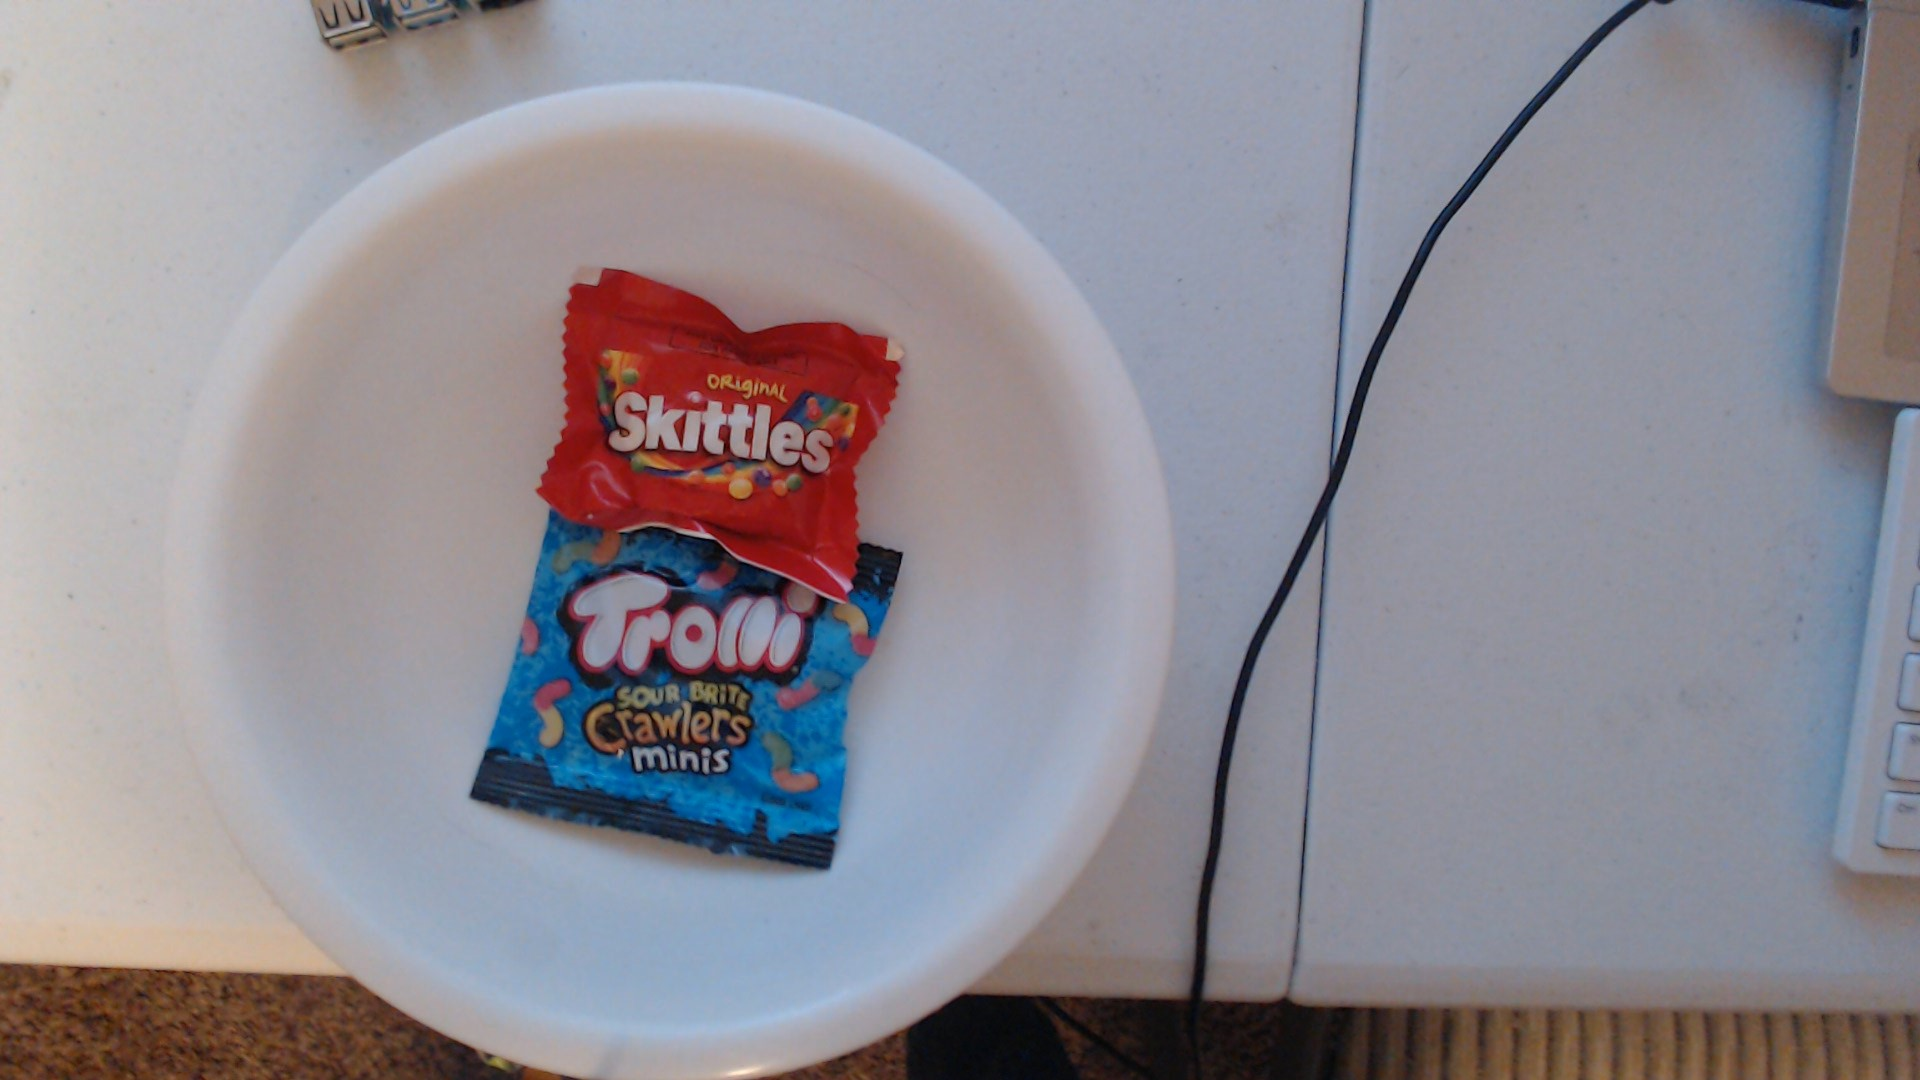gummy_worms: (501, 496, 868, 910)
skittles: (501, 223, 915, 608)
